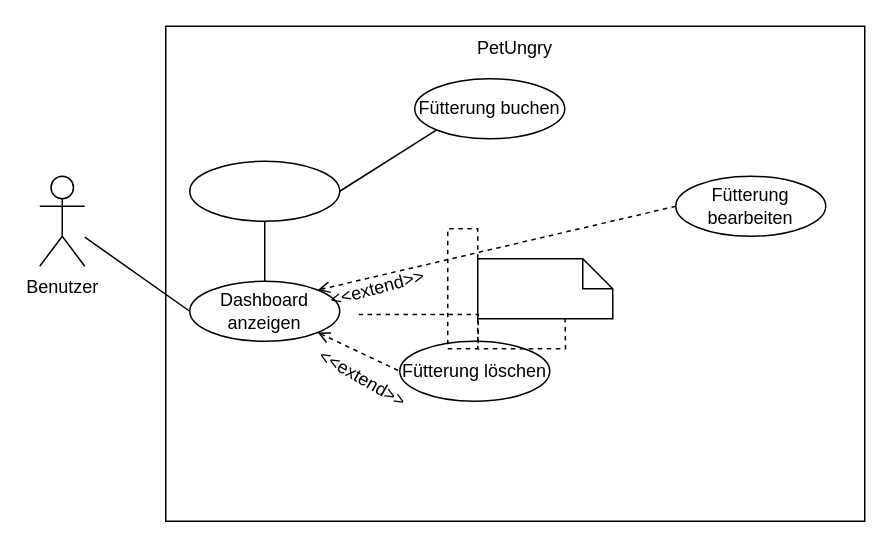
The diagram is 891 pixels wide and 548 high, and some of its shapes have lost their labels. The box of each missing label's shape, as (x1, y1, x2, y2) in pixels:
condition: Bearbeitungs Button gedrückt: (476, 257, 613, 319)
Fütterer auswählen: (188, 160, 340, 221)
